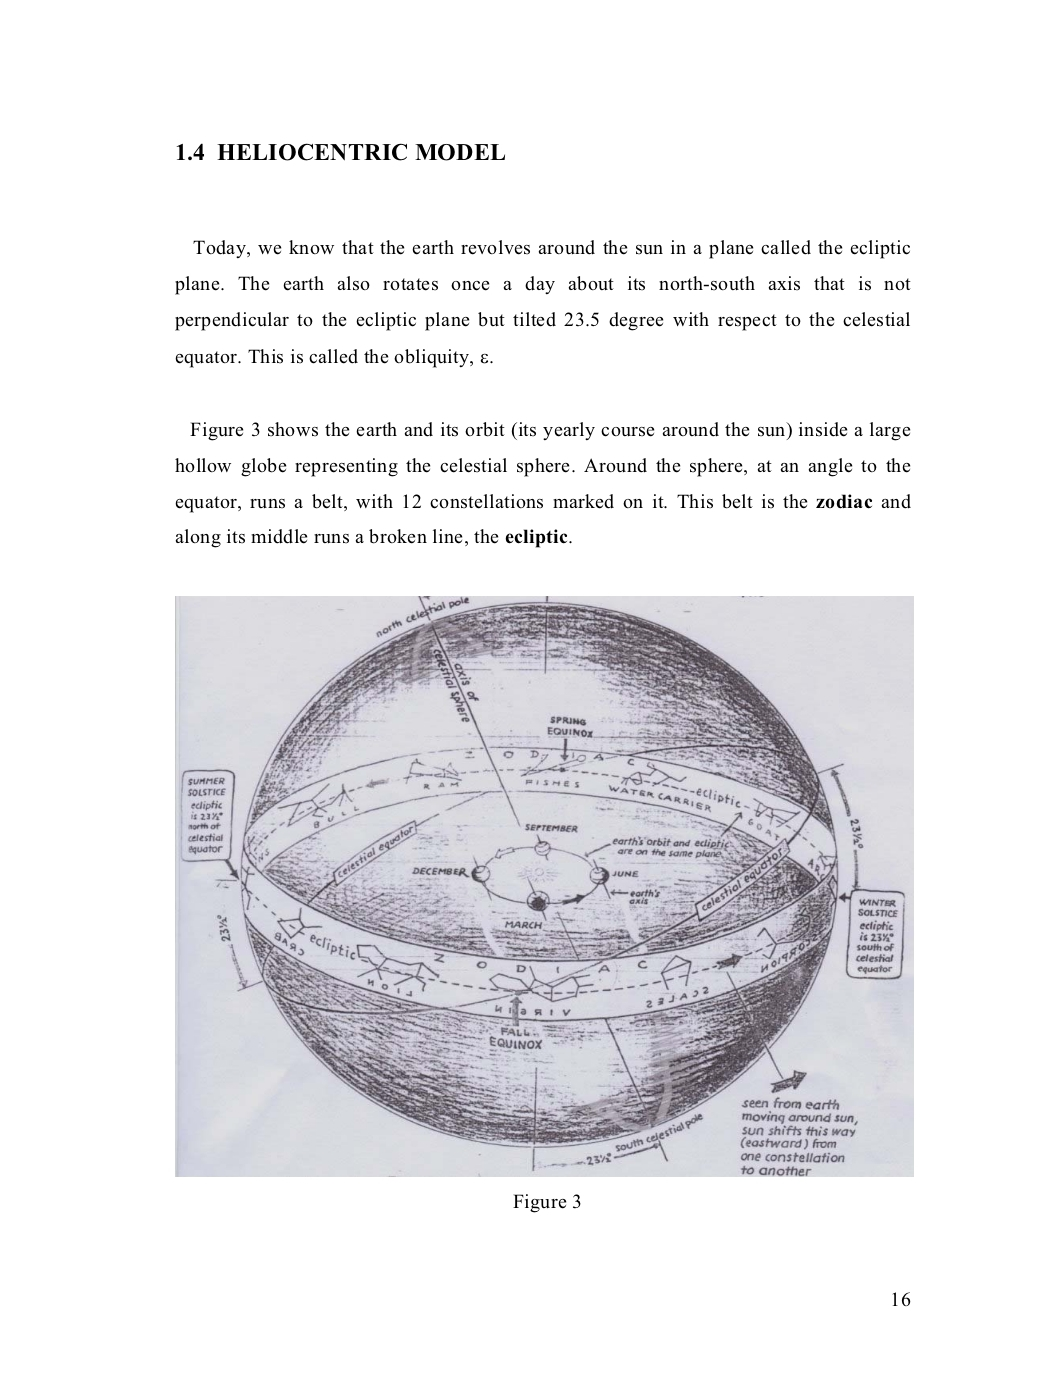figure: (175, 595, 913, 1177)
